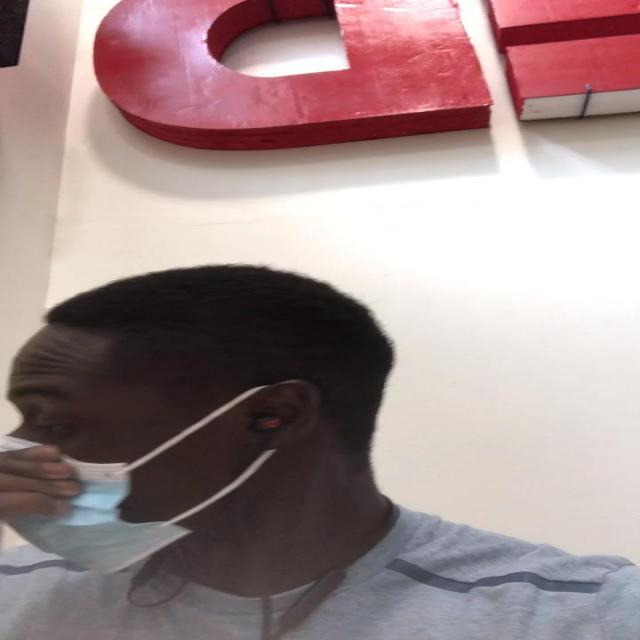face: (5, 329, 276, 577)
